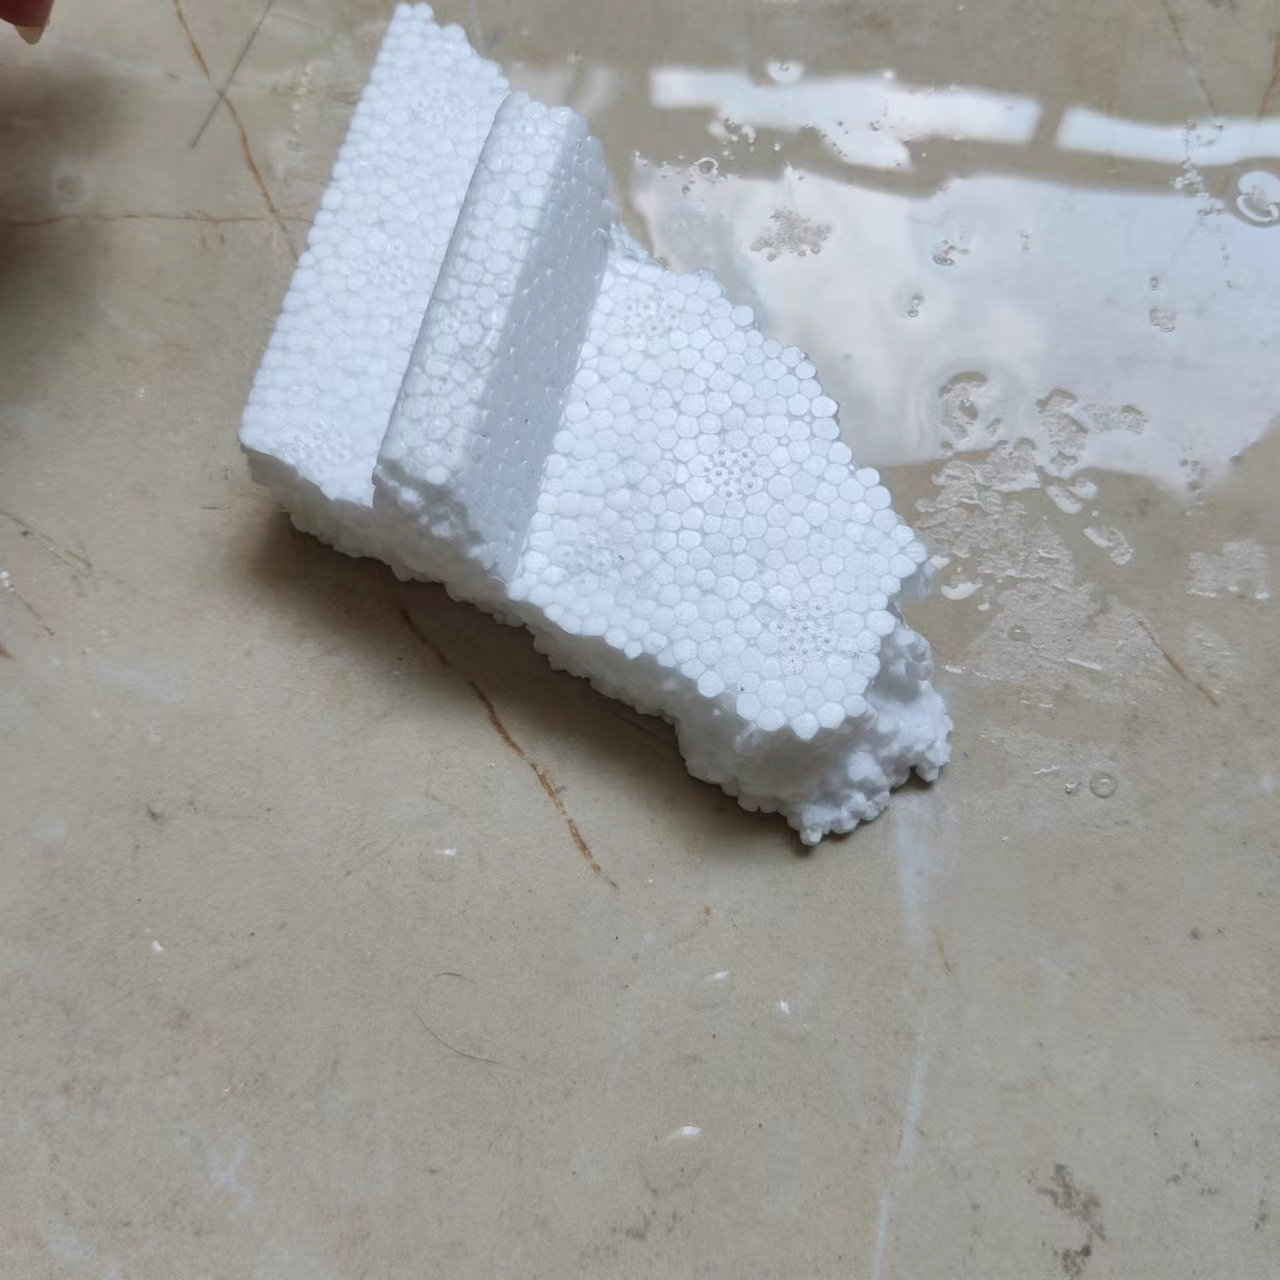5/可回收垃圾/泡沫: (236, 1, 955, 840)
